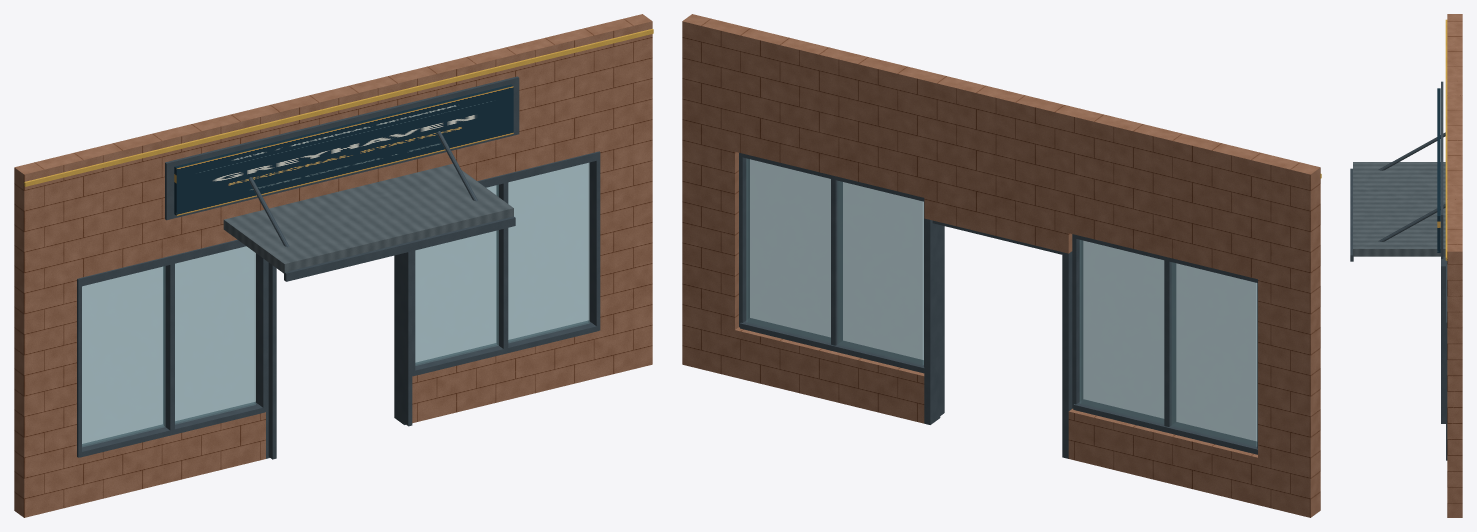
The model's file is PZ_GCR_02_Facade_Entrance_8m.glb.
The picture shows the model from 3 angles, left to right: view 1: azimuth 30°, elevation 25°; view 2: azimuth 150°, elevation 25°; view 3: azimuth 270°, elevation 25°; orthographic projection. The views are drawn at different scales.
Visible parts, largest first — view 1: Facade_Entrance_8m__Storefront_Glass_0, Facade_Entrance_8m__Storefront_Glass_1, Facade_Entrance_8m__Brick_Pier_Left, Facade_Entrance_8m__Brick_Pier_Right, Facade_Entrance_8m__Station_Sign_Original_Graphic, Facade_Entrance_8m__Window_Spandrel_Left, Facade_Entrance_8m__Awning_Roof_Sheet, Facade_Entrance_8m__Window_Spandrel_Right, Facade_Entrance_8m__Masonry_Kickwall_Left, Facade_Entrance_8m__Masonry_Kickwall_Right, Facade_Entrance_8m__Door_Lintel, Facade_Entrance_8m__Station_Sign_Back (+14 smaller); view 2: Facade_Entrance_8m__Storefront_Glass_0, Facade_Entrance_8m__Storefront_Glass_1, Facade_Entrance_8m__Window_Spandrel_Right, Facade_Entrance_8m__Window_Spandrel_Left, Facade_Entrance_8m__Brick_Pier_Left, Facade_Entrance_8m__Door_Lintel, Facade_Entrance_8m__Brick_Pier_Right, Facade_Entrance_8m__Masonry_Kickwall_Right, Facade_Entrance_8m__Masonry_Kickwall_Left, Facade_Entrance_8m__Storefront_Aluminium_Sill_1, Facade_Entrance_8m__Storefront_Aluminium_Sill_0, Facade_Entrance_8m__Entrance_Door_Jamb_Right (+8 smaller); view 3: Facade_Entrance_8m__Awning_Roof_Sheet, Facade_Entrance_8m__Brick_Pier_Right, Facade_Entrance_8m__Window_Spandrel_Left, Facade_Entrance_8m__Window_Spandrel_Right, Facade_Entrance_8m__Door_Lintel, Facade_Entrance_8m__Entrance_Door_Jamb_Right, Facade_Entrance_8m__External_Brick_Course, Facade_Entrance_8m__Station_Sign_Original_Graphic, Facade_Entrance_8m__Awning_Support_Rod, Facade_Entrance_8m__Station_Sign_Back, Facade_Entrance_8m__Brick_Pier_Left, Facade_Entrance_8m__Awning_Front_Drip_Edge (+1 smaller).
Boxes of the visible parts, <box> form: Facade_Entrance_8m__Storefront_Glass_0: <box>82,246,255,447</box>; Facade_Entrance_8m__Storefront_Glass_1: <box>415,162,589,365</box>; Facade_Entrance_8m__Brick_Pier_Left: <box>14,154,76,517</box>; Facade_Entrance_8m__Brick_Pier_Right: <box>590,14,652,377</box>; Facade_Entrance_8m__Station_Sign_Original_Graphic: <box>174,84,513,215</box>; Facade_Entrance_8m__Window_Spandrel_Left: <box>67,108,265,278</box>; Facade_Entrance_8m__Awning_Roof_Sheet: <box>223,164,513,273</box>; Facade_Entrance_8m__Window_Spandrel_Right: <box>401,27,599,180</box>; Facade_Entrance_8m__Masonry_Kickwall_Left: <box>77,412,265,504</box>; Facade_Entrance_8m__Masonry_Kickwall_Right: <box>412,330,599,423</box>; Facade_Entrance_8m__Door_Lintel: <box>256,73,410,208</box>; Facade_Entrance_8m__Station_Sign_Back: <box>165,76,519,220</box>; Facade_Entrance_8m__Storefront_Glass_0: <box>1079,240,1257,446</box>; Facade_Entrance_8m__Storefront_Glass_1: <box>746,158,923,365</box>; Facade_Entrance_8m__Window_Spandrel_Right: <box>735,27,933,197</box>; Facade_Entrance_8m__Window_Spandrel_Left: <box>1068,108,1267,279</box>; Facade_Entrance_8m__Brick_Pier_Left: <box>1258,154,1320,517</box>; Facade_Entrance_8m__Door_Lintel: <box>924,73,1077,253</box>; Facade_Entrance_8m__Brick_Pier_Right: <box>682,14,744,377</box>; Facade_Entrance_8m__Masonry_Kickwall_Right: <box>735,327,924,423</box>; Facade_Entrance_8m__Masonry_Kickwall_Left: <box>1068,408,1257,504</box>; Facade_Entrance_8m__Storefront_Aluminium_Sill_1: <box>740,318,924,373</box>; Facade_Entrance_8m__Storefront_Aluminium_Sill_0: <box>1073,399,1257,454</box>; Facade_Entrance_8m__Entrance_Door_Jamb_Right: <box>933,223,944,420</box>; Facade_Entrance_8m__Awning_Roof_Sheet: <box>1353,162,1445,256</box>; Facade_Entrance_8m__Brick_Pier_Right: <box>1447,232,1462,517</box>; Facade_Entrance_8m__Window_Spandrel_Left: <box>1447,34,1462,105</box>; Facade_Entrance_8m__Window_Spandrel_Right: <box>1447,160,1462,231</box>; Facade_Entrance_8m__Door_Lintel: <box>1447,105,1462,160</box>; Facade_Entrance_8m__Entrance_Door_Jamb_Right: <box>1441,268,1445,423</box>; Facade_Entrance_8m__External_Brick_Course: <box>1445,19,1447,260</box>; Facade_Entrance_8m__Station_Sign_Original_Graphic: <box>1437,88,1440,252</box>; Facade_Entrance_8m__Awning_Support_Rod: <box>1378,132,1445,241</box>; Facade_Entrance_8m__Station_Sign_Back: <box>1441,81,1443,258</box>; Facade_Entrance_8m__Brick_Pier_Left: <box>1447,14,1462,33</box>; Facade_Entrance_8m__Awning_Front_Drip_Edge: <box>1350,168,1353,261</box>.
Size of the model in its own units: 8 by 4.18 by 1.6.
6 materials, 6 textured.
